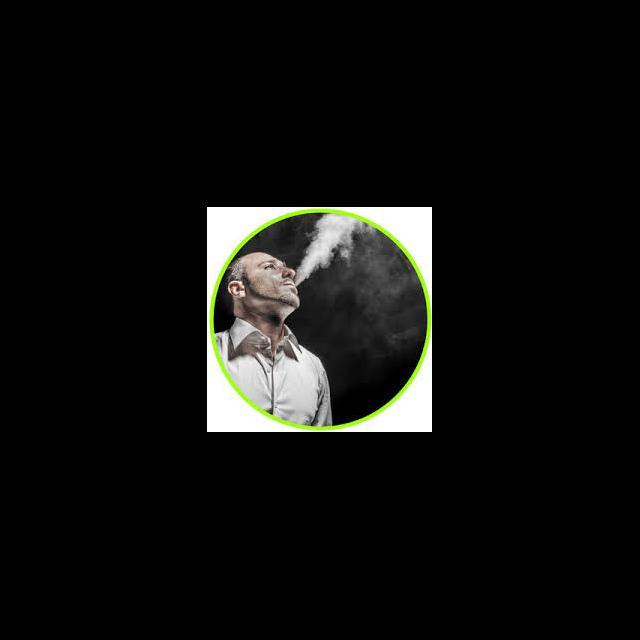Smoke: (301, 220, 361, 280)
